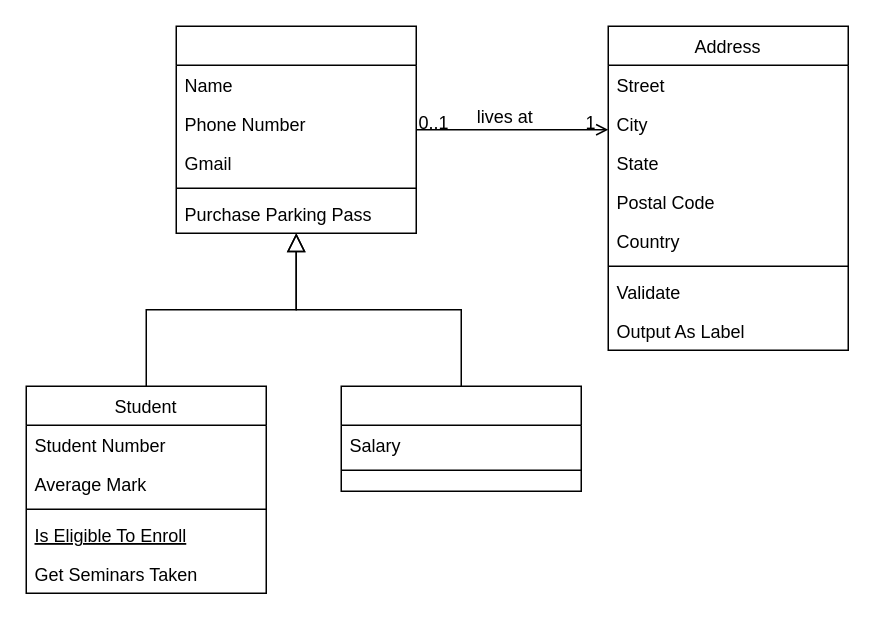
Image size: 875x624. Some labels were removed from this diagram. Here are the shapes that lost their labels. From the top down, the box of each, then its label:
(175, 25, 416, 233): Person
(340, 385, 581, 491): Professor
